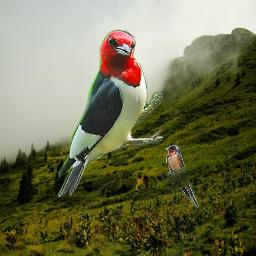Swallow: (166, 145, 199, 208)
Woodpecker: (53, 29, 163, 197)
